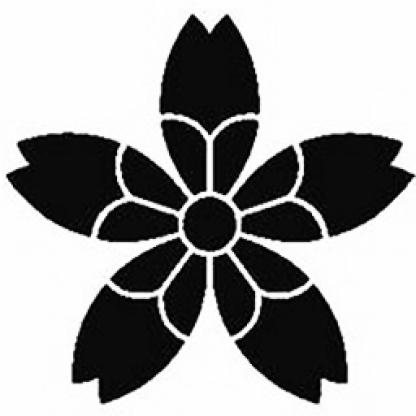kamon: (5, 10, 414, 403)
